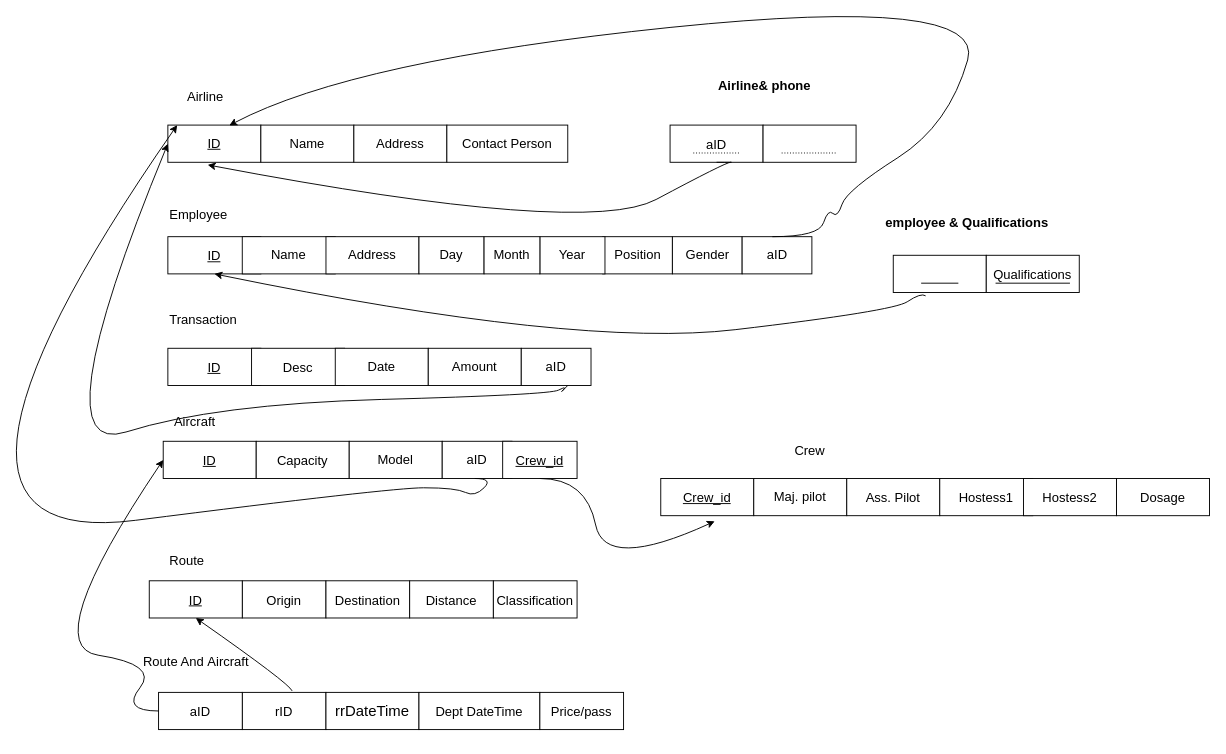
Image size: 1226x754. Some labels were removed from this diagram. The box of each missing label's shape, as (x1, y1, x2, y2) in pixels:
eID: (892, 254, 986, 292)
Phones: (762, 124, 856, 162)
